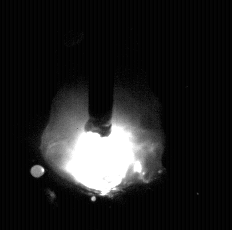arame: (88, 0, 114, 136)
poca: (41, 0, 165, 230)
